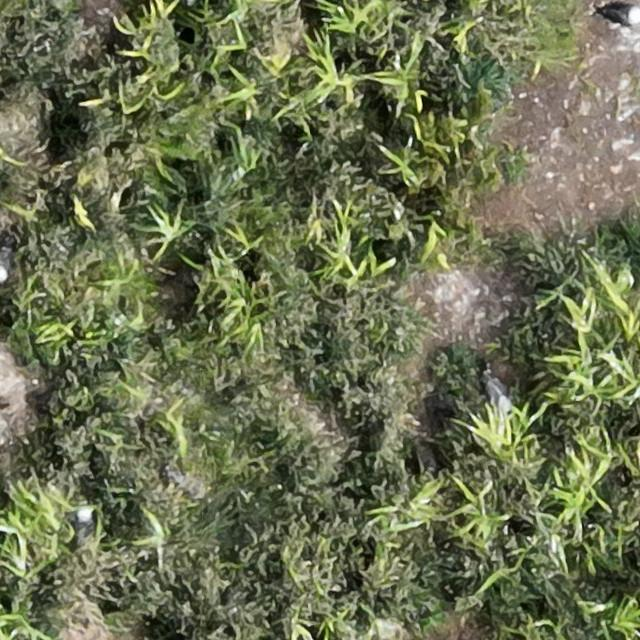umineko: (601, 6, 638, 24), (0, 245, 9, 284)
